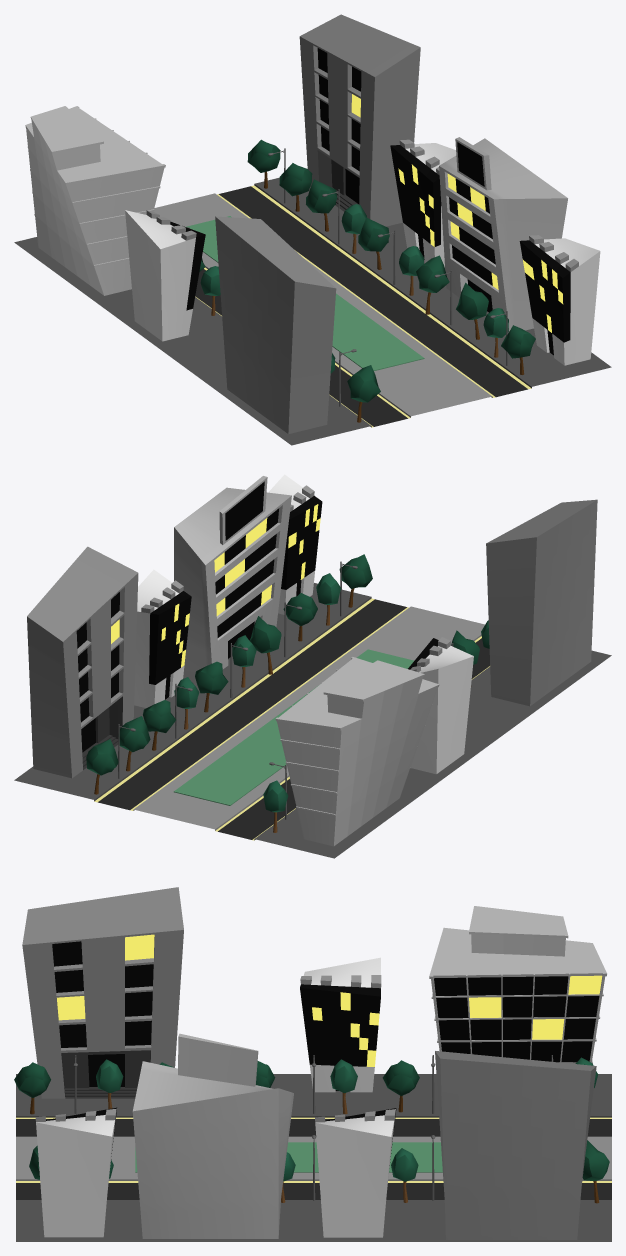
File: Block_02.fbx
3 renders of one model, top to bottom at view 1: azimuth 30°, elevation 25°; view 2: azimuth 150°, elevation 25°; view 3: azimuth 270°, elevation 25°, orthographic. The views are drawn at different scales.
Parts seen in each view (by area): view 1: Block_02; view 2: Block_02; view 3: Block_02.
Part boxes in pixels (box(x1,y1,x2,y2)): Block_02: box(14, 14, 611, 445); Block_02: box(14, 474, 611, 858); Block_02: box(14, 887, 611, 1241).
Bounding box in the file's own units: 2233 × 1047 × 3011.
Materials: 2 (1 with a texture image).
